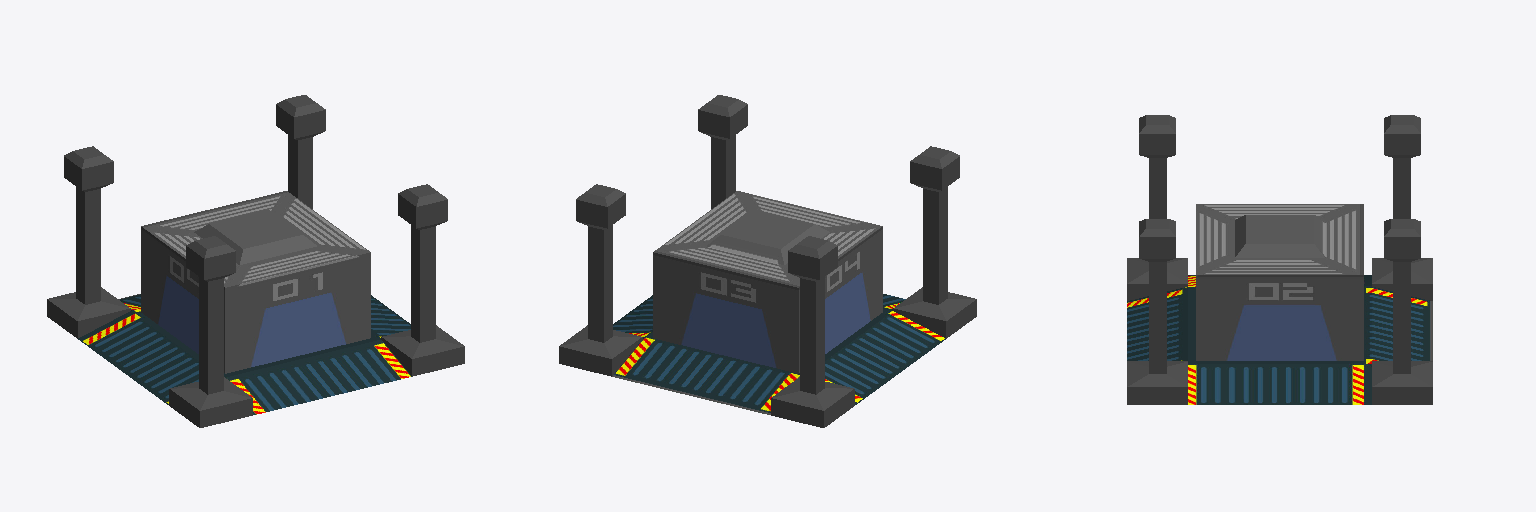
The picture shows the model from 3 angles: view 1: azimuth 30°, elevation 25°; view 2: azimuth 150°, elevation 25°; view 3: azimuth 270°, elevation 25°; orthographic projection.
Visible parts, largest first — view 1: recycler_body; view 2: recycler_body; view 3: recycler_body.
Boxes of the visible parts, x1=… form: recycler_body: x1=47, y1=95, x2=464, y2=427; recycler_body: x1=559, y1=95, x2=976, y2=427; recycler_body: x1=1127, y1=115, x2=1432, y2=404.
Bounding box in the file's own units: 99.92 × 60.63 × 99.92.
Materials: 1 (1 with a texture image).